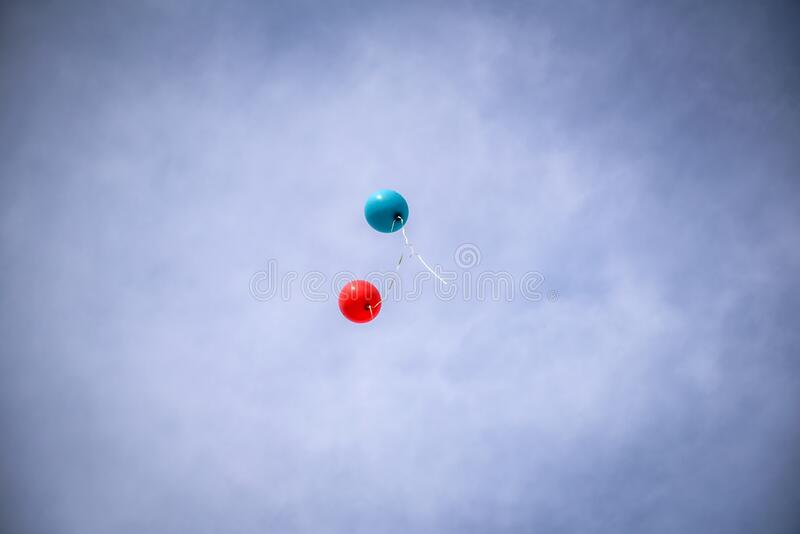Balloon: (364, 189, 408, 232), (339, 279, 382, 322)
